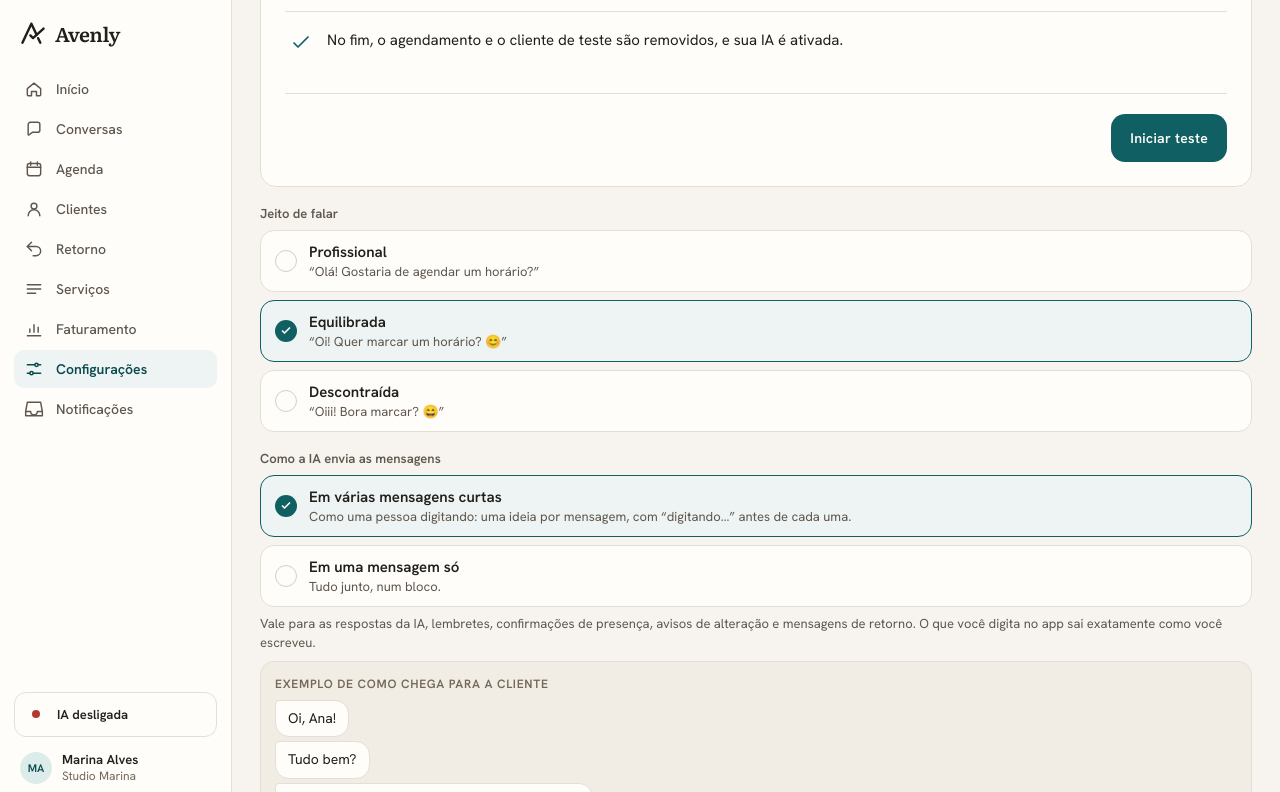
Test: Goal104 prova 1: IA1 em /configuracoes/ia › a recusa por falta de teste ainda relê o estado, e não vira erro genérico
(page scrolled)
Click the radio button labelled "Descontraída “Oiii! Bora marcar? 😄”".
click(354, 392)  # box [260,370,1252,432]
(page scrolled)
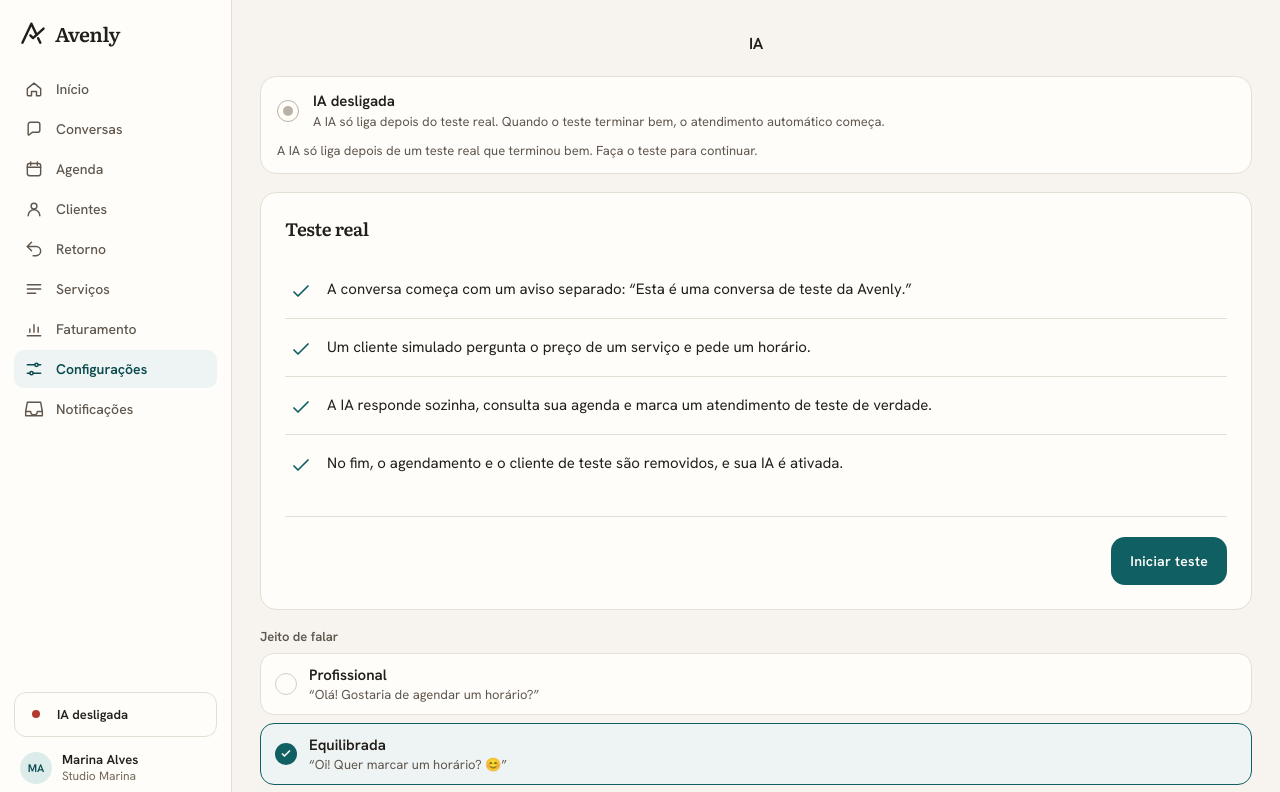
Now the text "A IA só liga depois de um teste real que terminou bem" is shown, box [277,142,757,159]
